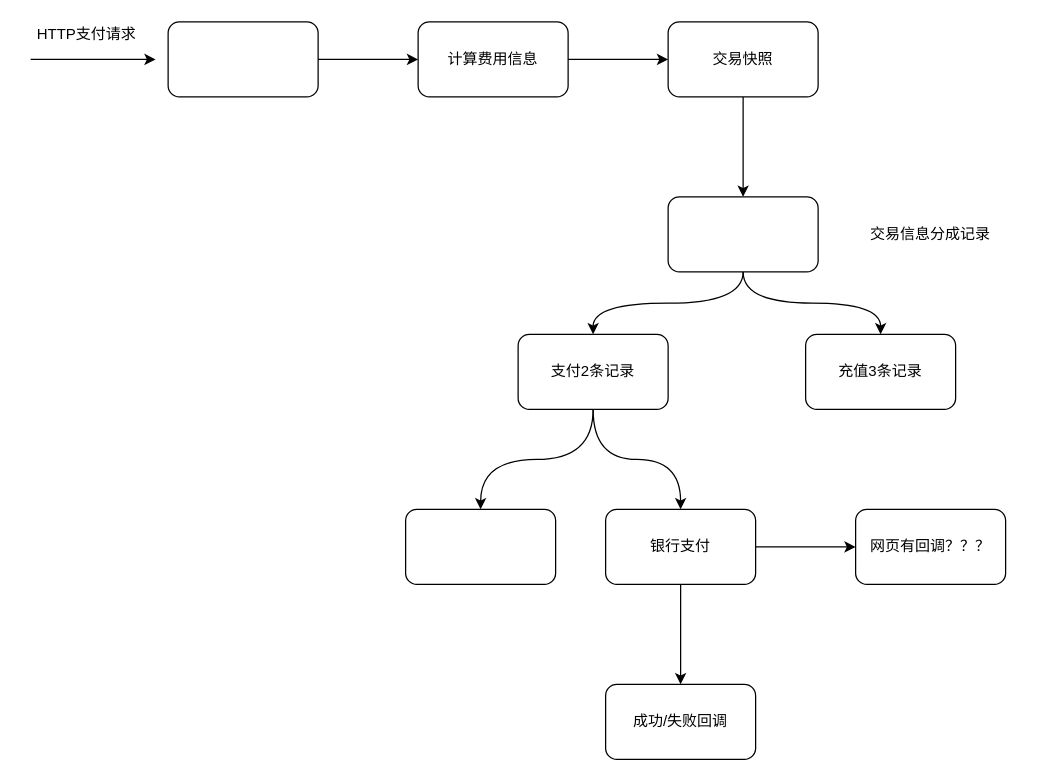
This 1053x781 diagram has some shape labels left out. The box of each missing label's shape, as (x1, y1, x2, y2) in pixels:
生成支付信息 transaction_id: (667, 196, 818, 272)
钱包支付，扣减余额: (404, 508, 556, 584)
验证，订单，商户信息[身份，余额]: (167, 21, 318, 97)
